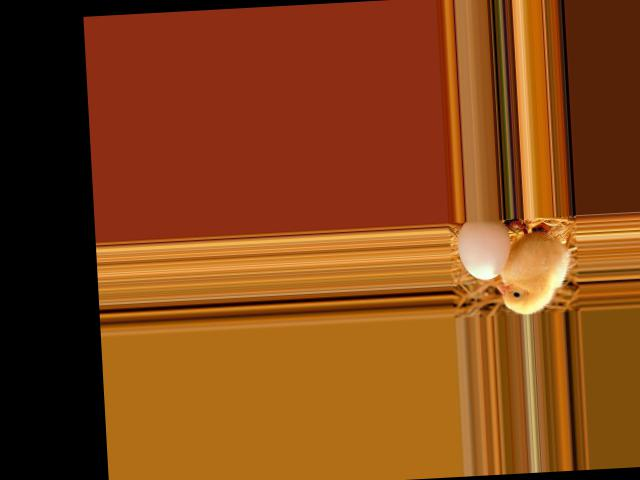egg: (457, 218, 513, 281)
